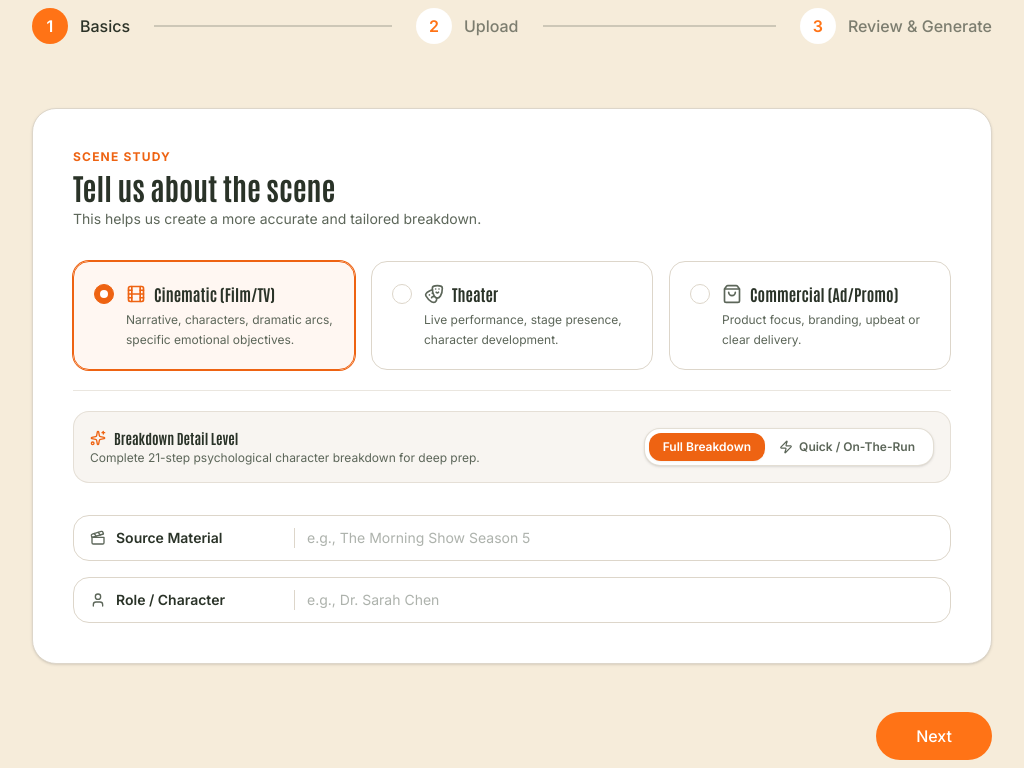
Scenario: AuditionWizard › handleNext › increments step from 1 to 2
The width and height of the screenshot is (1024, 768).
Expected: the text "Basics" is shown, [80,14,130,38]
Click the button "Next" at (934, 736), box [876,712,992,760]
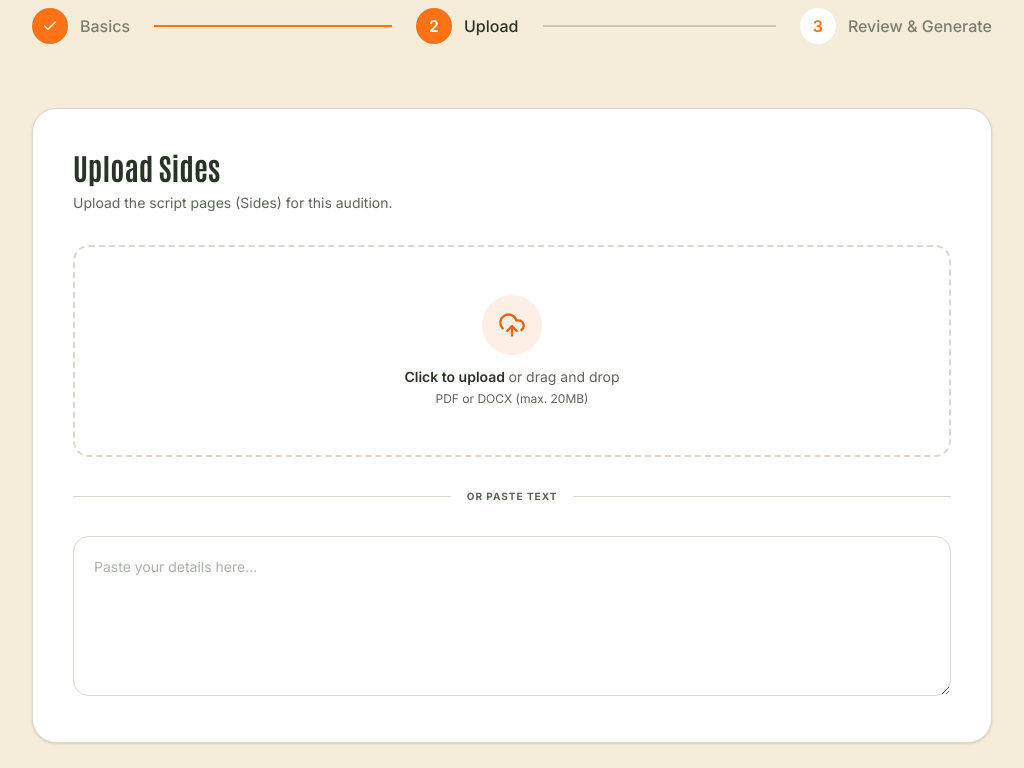
Expected: the heading "Upload Sides" is shown, [73,147,220,186]
